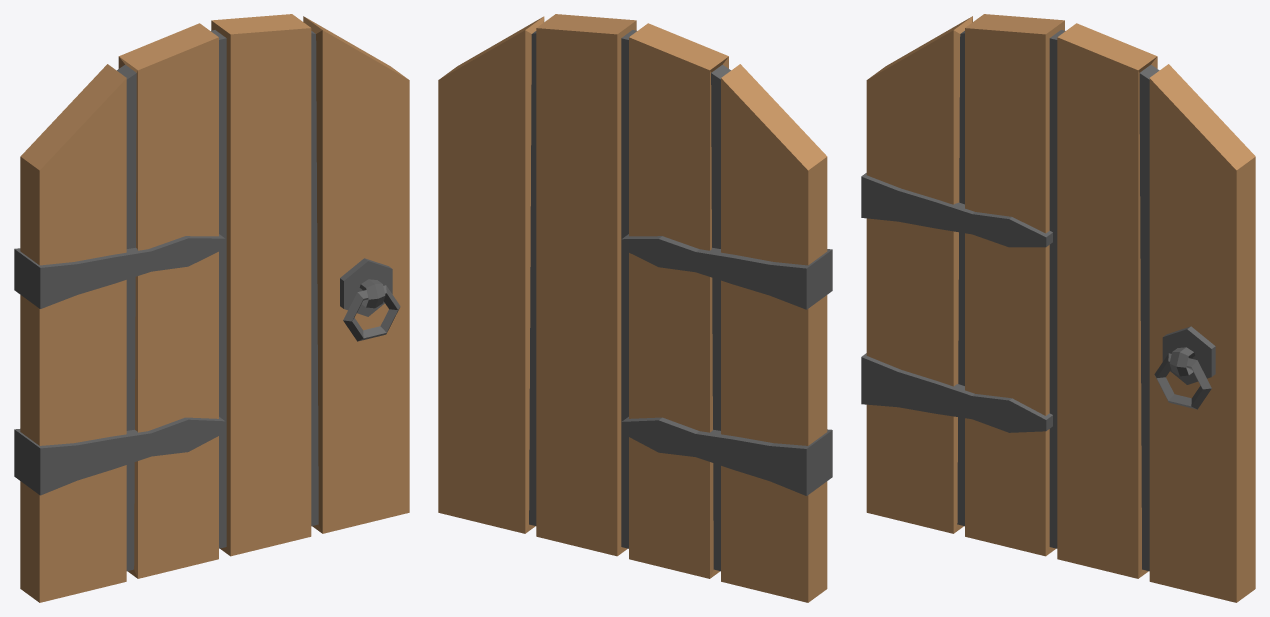
File: Puerta.fbx
The picture shows the model from 3 angles, left to right: view 1: azimuth 30°, elevation 25°; view 2: azimuth 150°, elevation 25°; view 3: azimuth 330°, elevation 25°; orthographic projection.
Parts seen in each view (by area): view 1: door.001; view 2: door.001; view 3: door.001.
Boxes of the visible parts, x1,y1,x2,y2 form: door.001: (14,14,409,602); door.001: (438,14,832,602); door.001: (861,14,1255,602).
Size of the model in its own units: 591 by 792 by 103.
